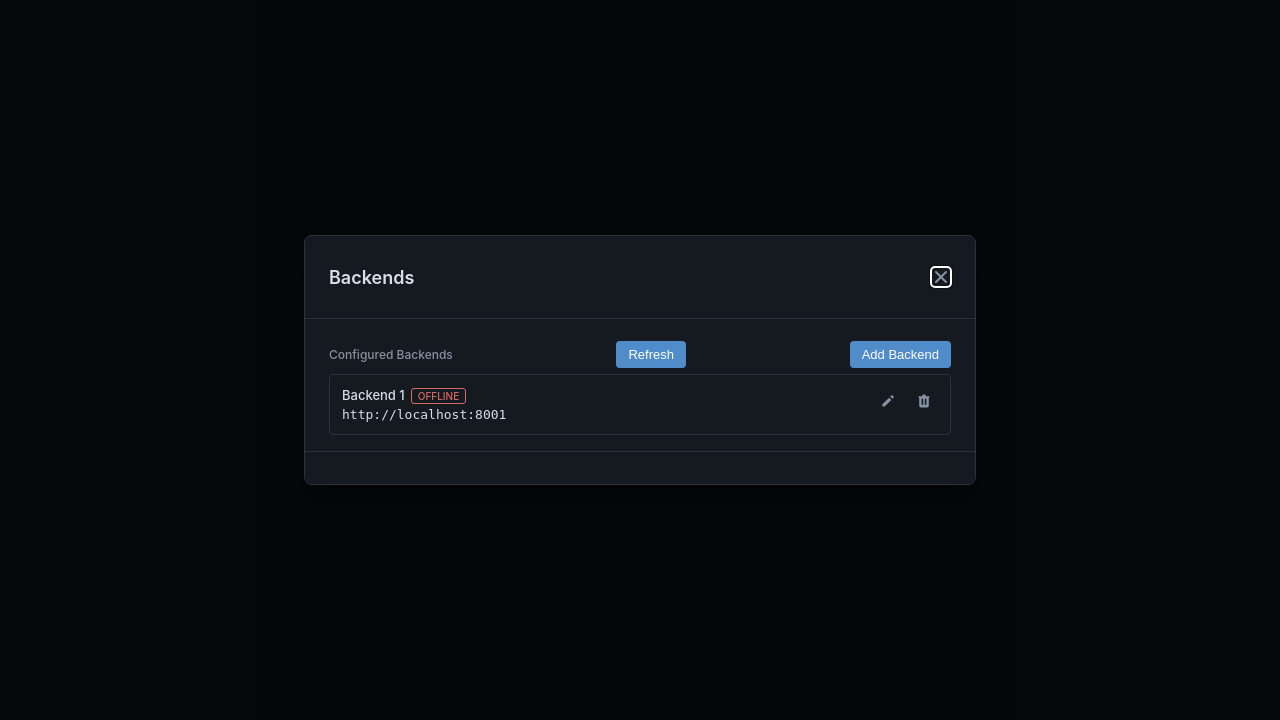
Test: BackendsDialog › surfaces a save failure instead of swallowing it
The width and height of the screenshot is (1280, 720).
Click the button "Add Backend" at (900, 355), box [850, 341, 951, 368]
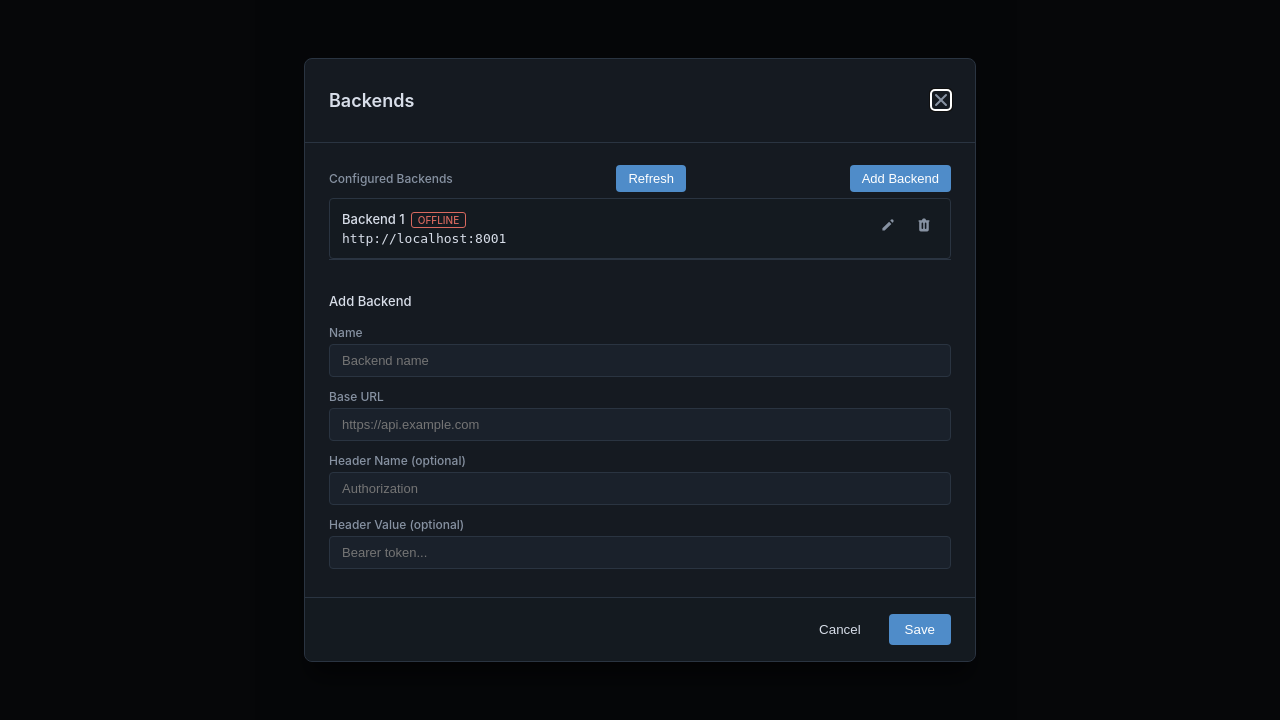
Type "Test" into the field labelled "Name" at (640, 361), box [329, 344, 951, 377]
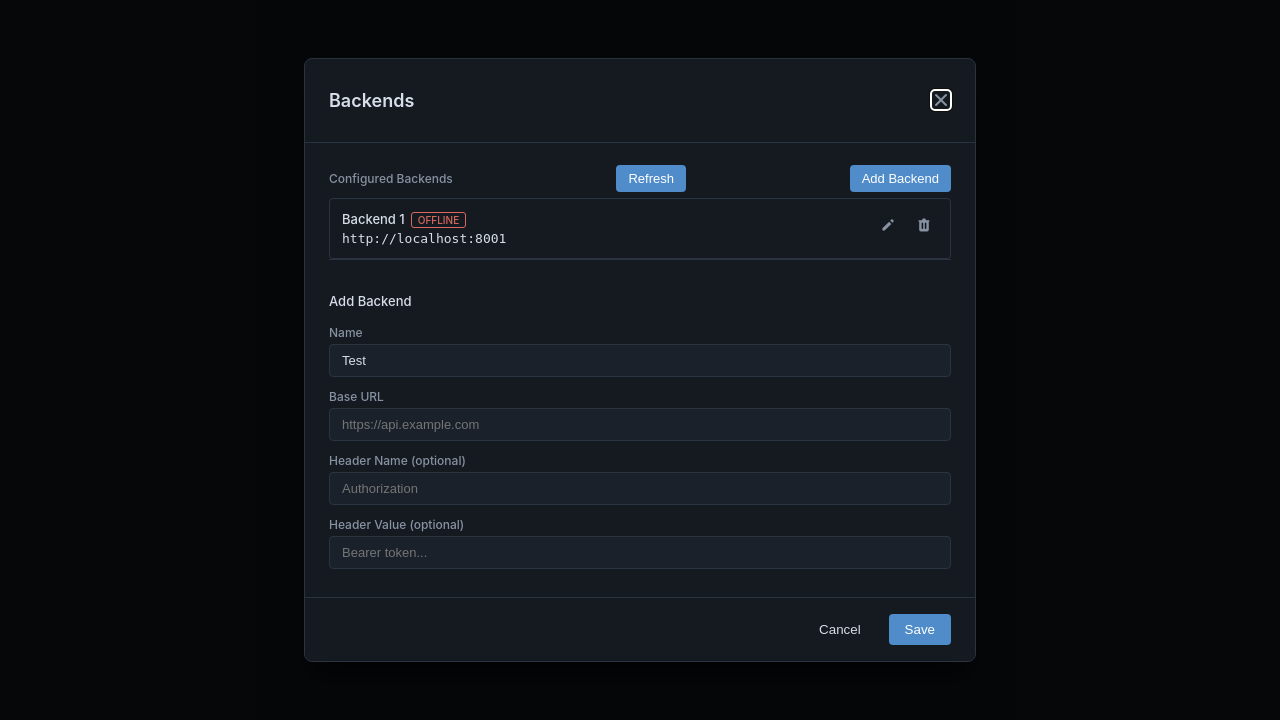
Type "http://localhost:9000" into the field labelled "Base URL" at (640, 425), box [329, 408, 951, 441]
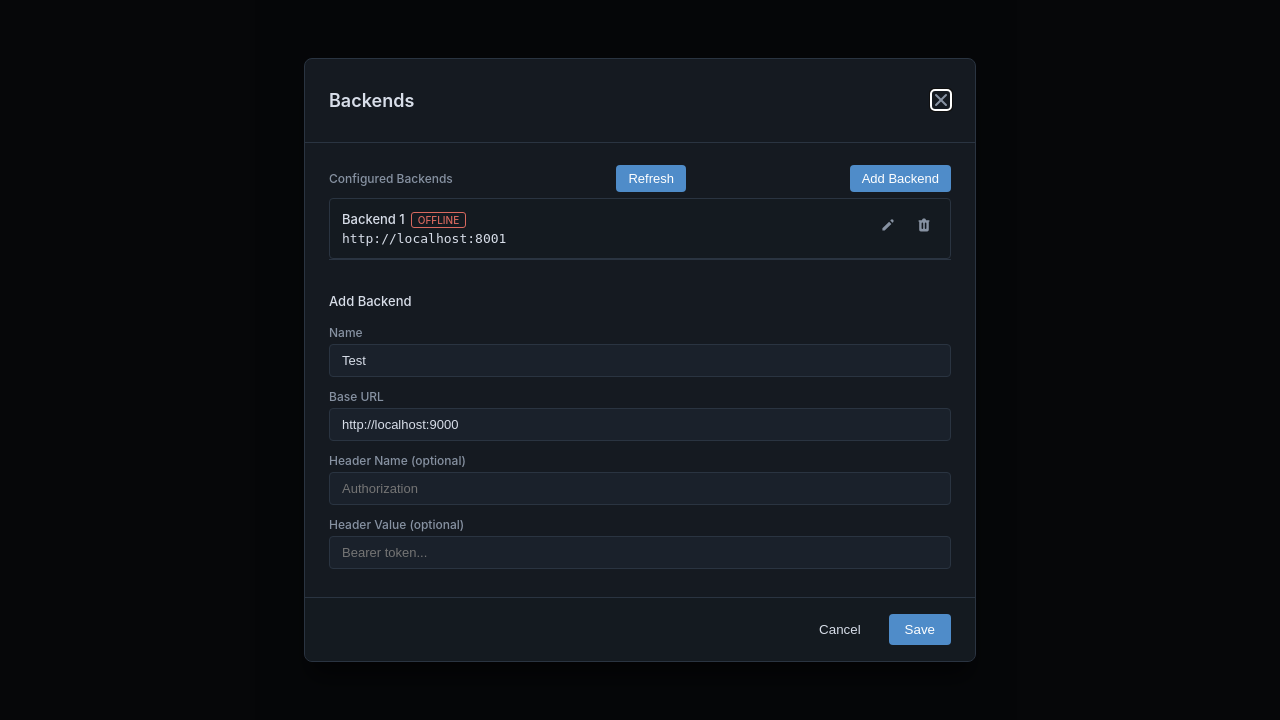
Click the button "Save" at (920, 630), box [889, 614, 951, 645]
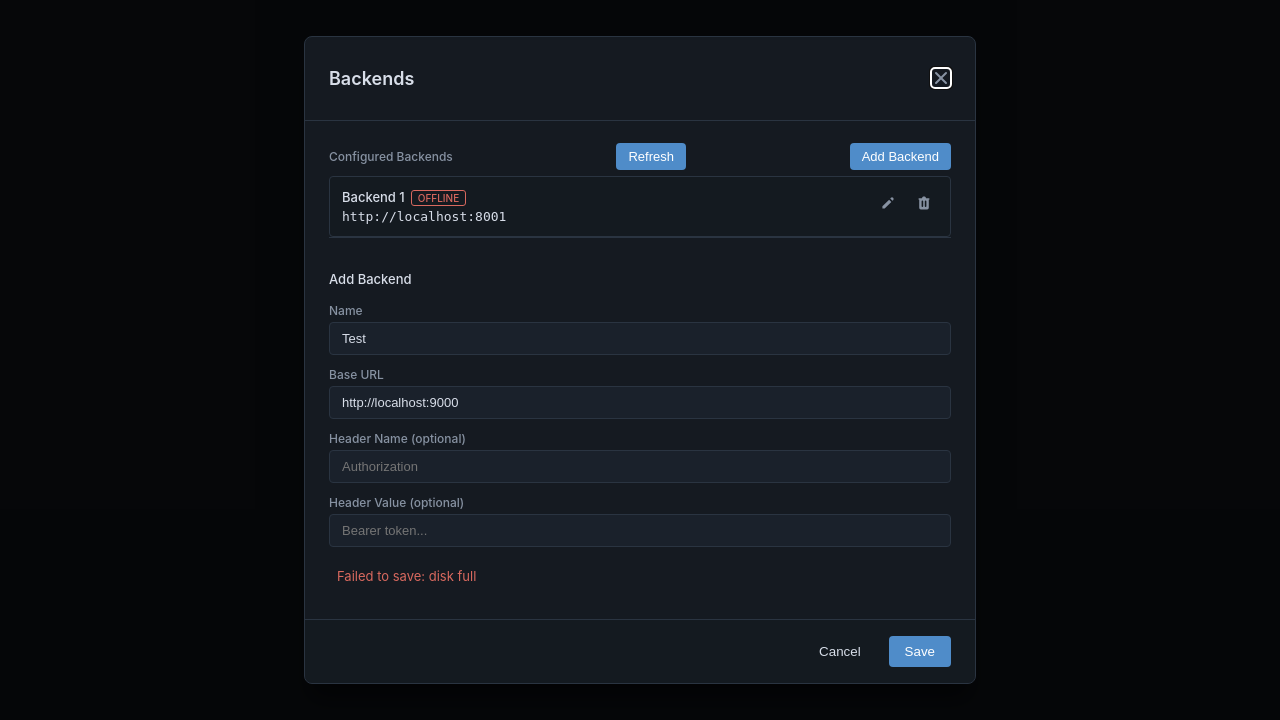
Now the text "Failed to save: disk full" is shown, box [337, 568, 476, 584]
